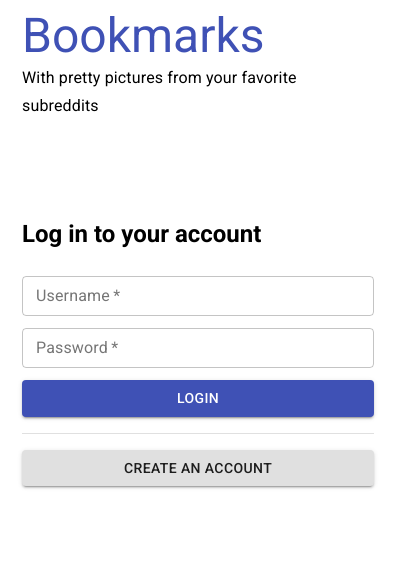
Login page displays correctly › Clicking register opens up the registration form
This screenshot has width=397, height=565.
Click the button "Create an Account" at (198,469), box [22,450,374,487]
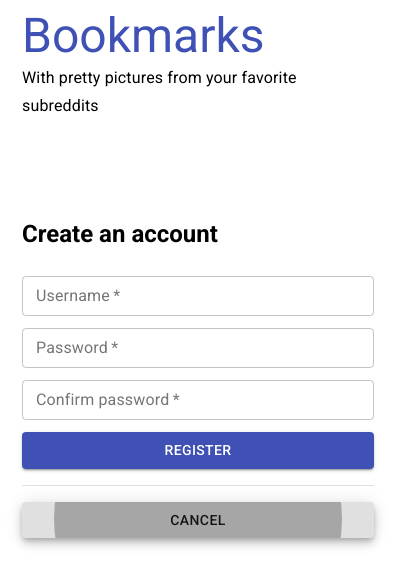
Expected: the text "Create an account" is shown, [22,220,218,248]
Expected: the button "Register" is shown, [22,432,374,468]
